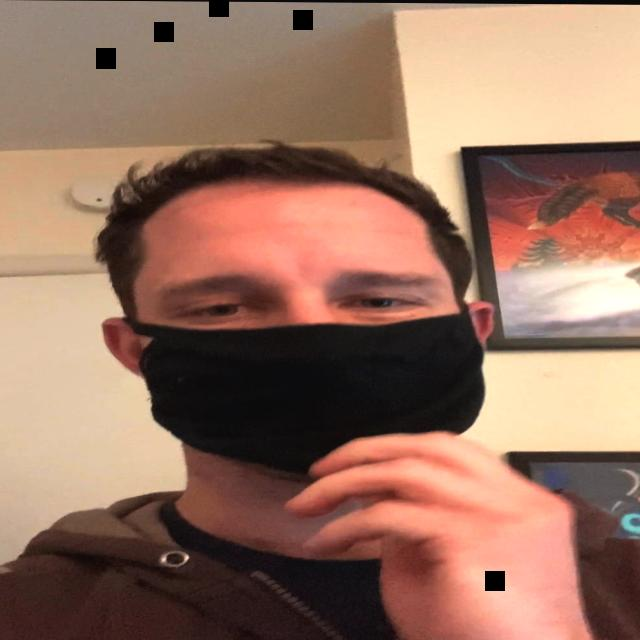Mask: (86, 167, 507, 509)
